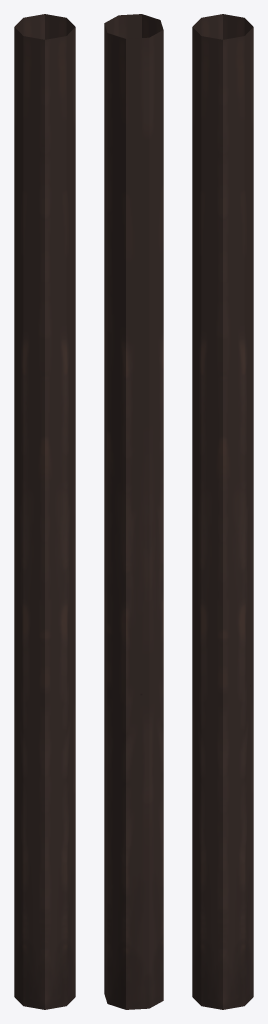
File: window_partition.obj
3 renders of one model, left to right at view 1: azimuth 90°, elevation 25°; view 2: azimuth 210°, elevation 25°; view 3: azimuth 270°, elevation 25°, orthographic.
Visible parts, largest first — view 1: window_partition_Cylinder.005; view 2: window_partition_Cylinder.005; view 3: window_partition_Cylinder.005.
Part boxes in pixels (left/top/right/bottom): window_partition_Cylinder.005: left=14, top=14, right=75, bottom=1009; window_partition_Cylinder.005: left=104, top=14, right=163, bottom=1009; window_partition_Cylinder.005: left=192, top=14, right=253, bottom=1009.
Size of the model in its own units: 0.0581 by 1.02 by 0.0581.
1 material, 1 textured.
